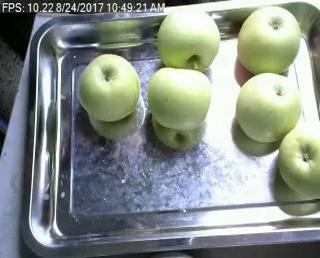fruit: (235, 6, 304, 76), (75, 54, 143, 121), (147, 67, 212, 136), (226, 80, 304, 137), (152, 6, 224, 66)
